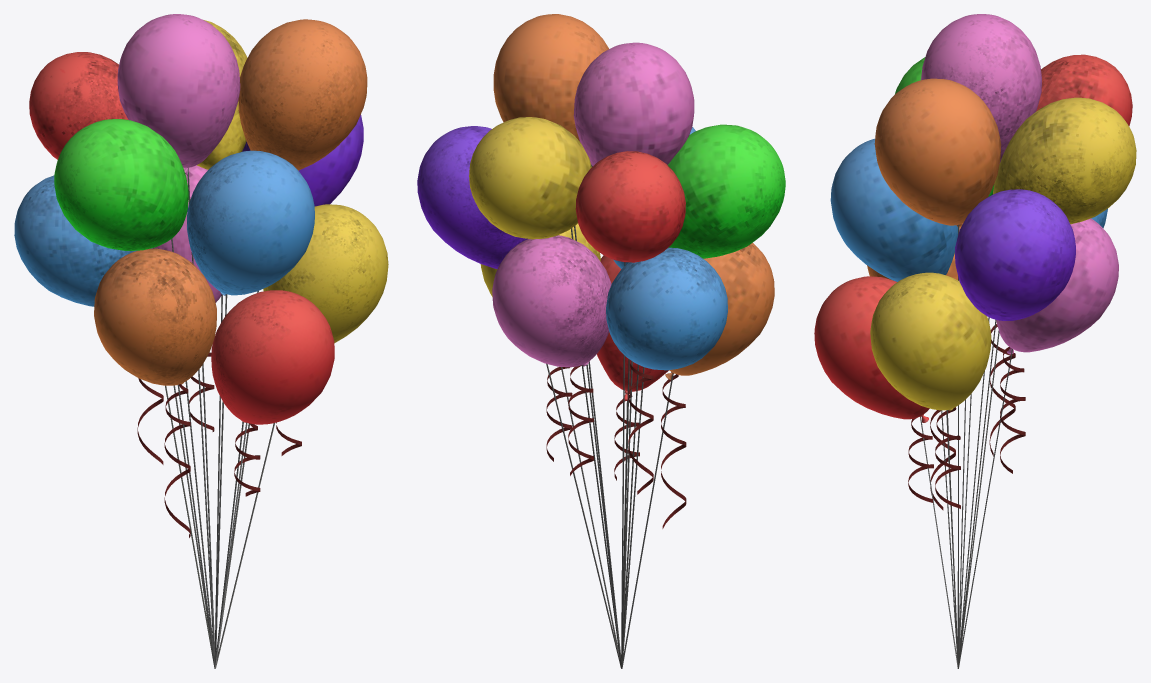
The model's file is Ballons.fbx.
3 renders of one model, left to right at view 1: azimuth 30°, elevation 25°; view 2: azimuth 150°, elevation 25°; view 3: azimuth 270°, elevation 25°, orthographic.
Parts seen in each view (by area): view 1: Ballons; view 2: Ballons; view 3: Ballons.
Boxes of the visible parts, left/top/right/bottom form: Ballons: left=14, top=14, right=388, bottom=668; Ballons: left=417, top=14, right=785, bottom=668; Ballons: left=814, top=14, right=1136, bottom=668.
Size of the model in its own units: 212 by 402 by 184.
9 materials, 9 textured.
